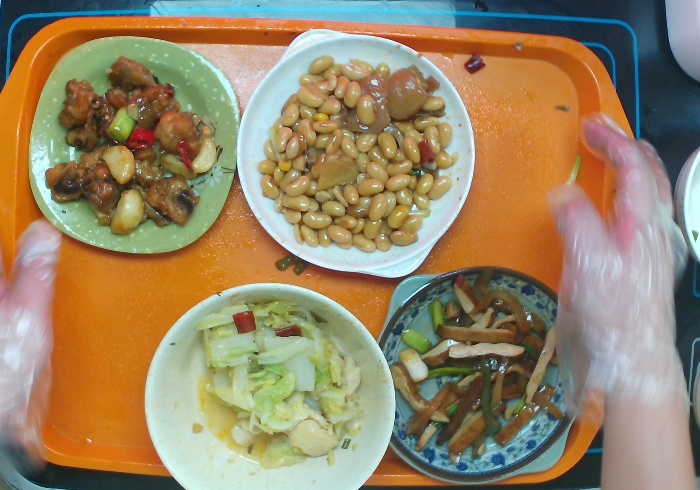NLDX-Bai_Se_Shuang_Er_Die: (235, 25, 477, 282)
NLDX-Bai_Se_Yuan_Wan: (139, 277, 400, 490)
NLDX-Lv_Hua_Fang_Die: (24, 33, 242, 258)
NLDX-Qing_Hua_Shuang_Er_Die: (371, 260, 585, 490)
